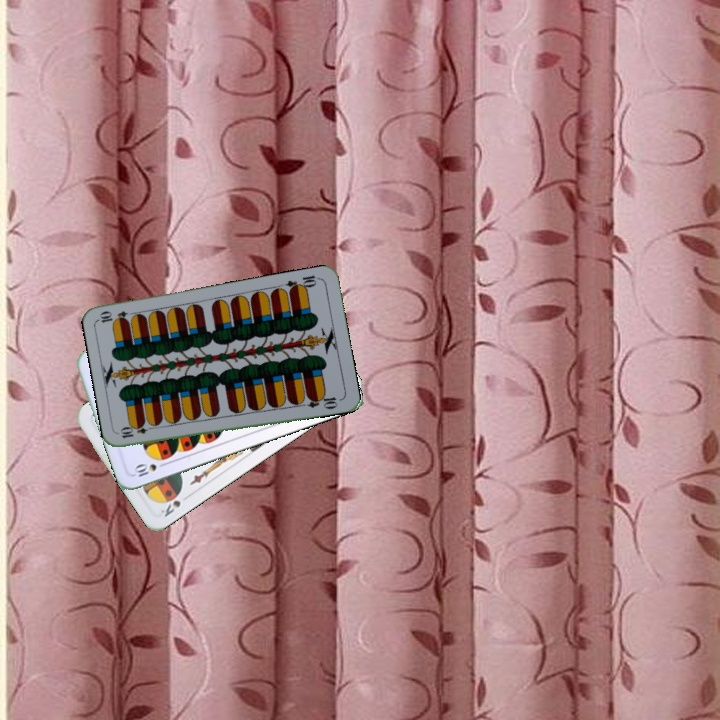E10: (282, 271, 322, 295), (117, 421, 157, 441)
S10: (130, 459, 170, 479)
SK: (157, 496, 183, 520)
